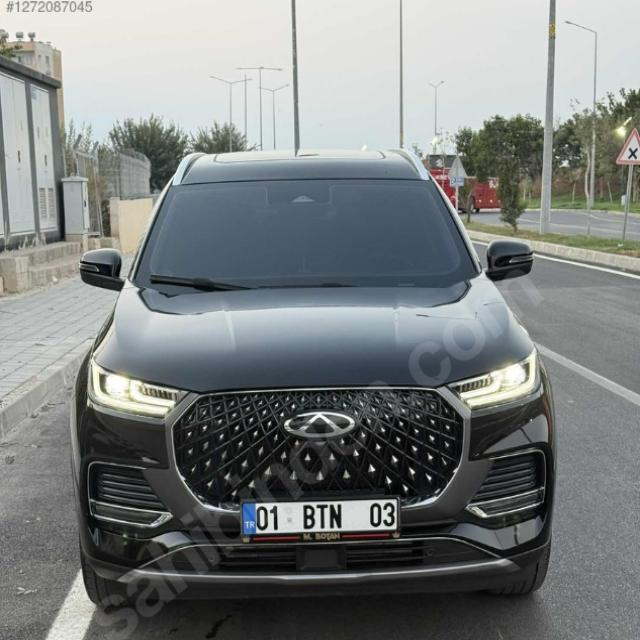cherry: (280, 408, 358, 441)
